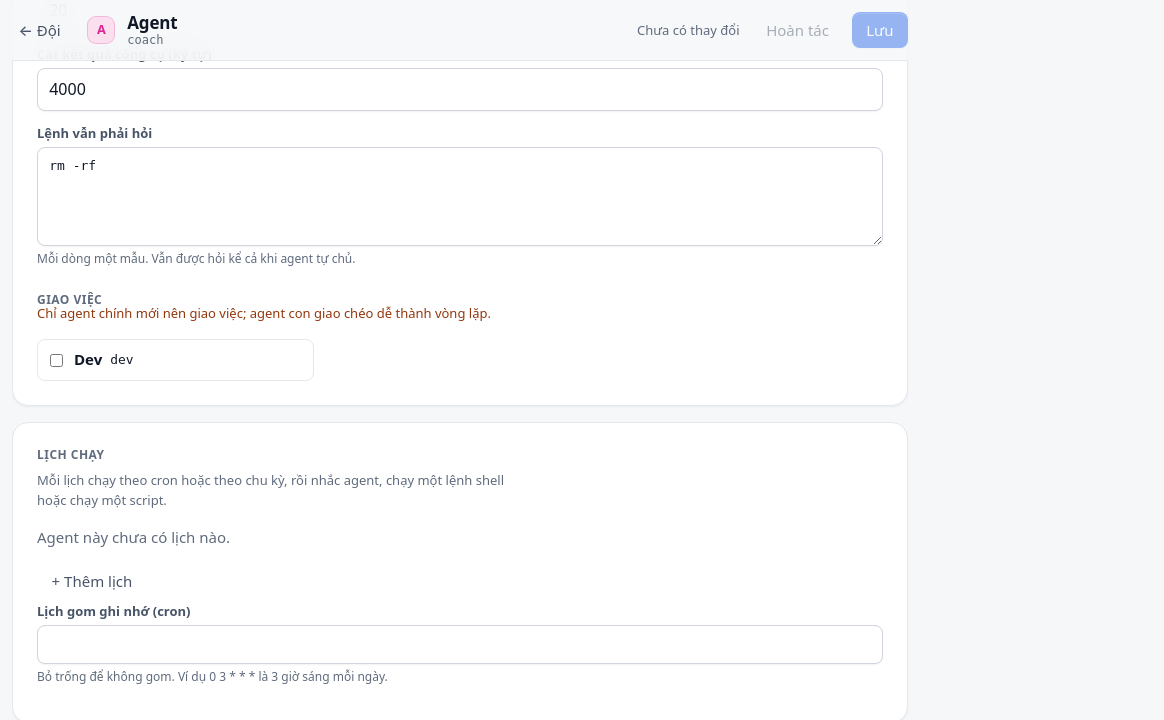
Test case: a change to the mode or to the delegates that is not saved yet › gives way to the rows of the agent the save made, once the save of a delegate lands
(page scrolled)
Click the checkbox labelled "Dev dev" at (56, 360), box [50,354,63,367]
(page scrolled)
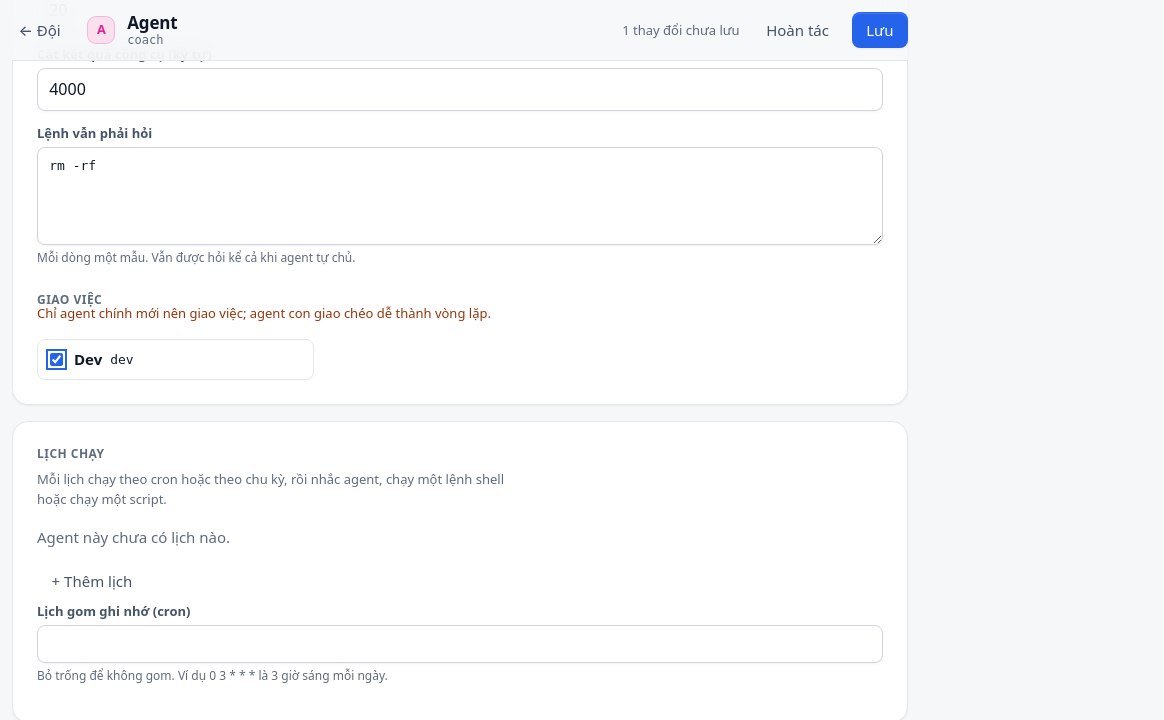
Click the button "Lưu" at (880, 30), box [852,12,908,48]
(page scrolled)
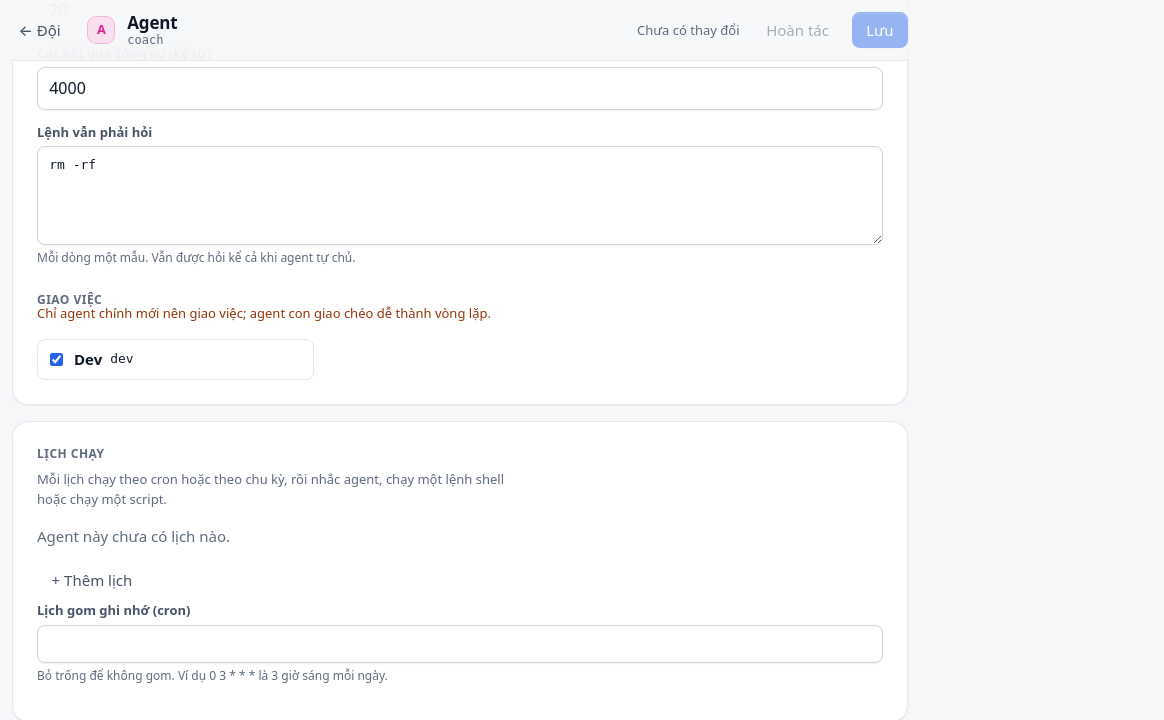
expect the text "Chưa có thay đổi" is shown: met, box [637,20,740,40]
